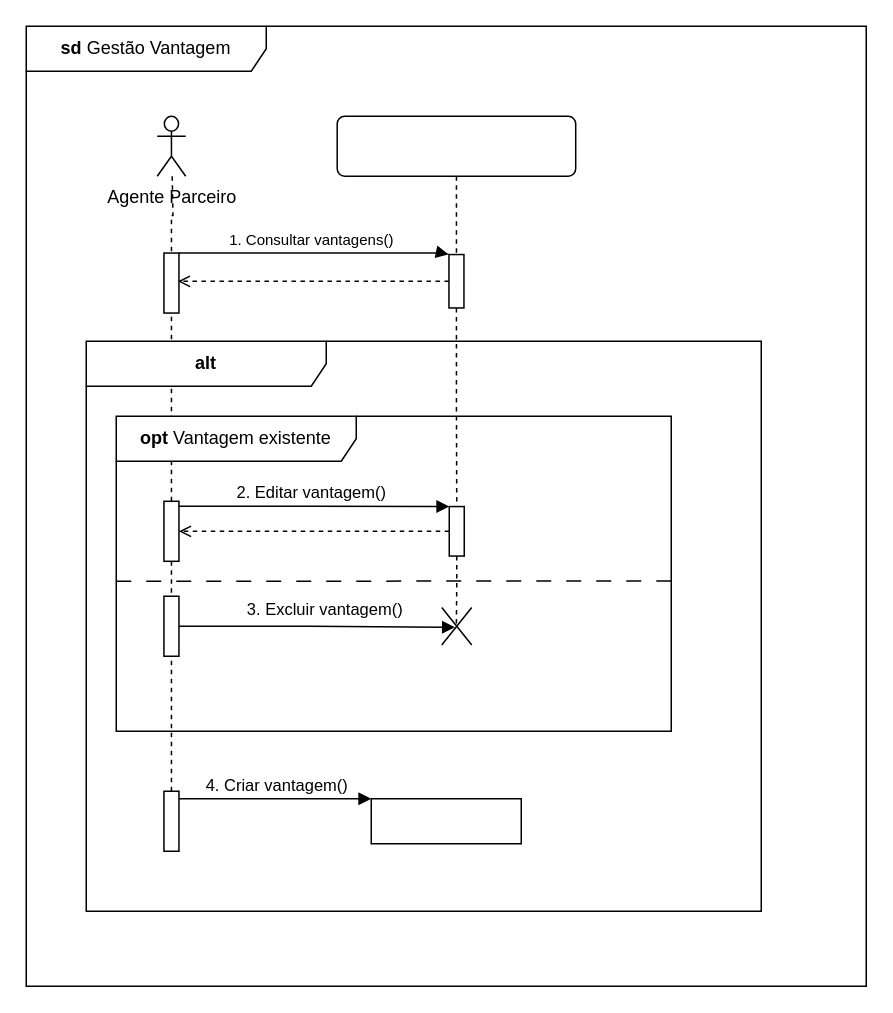
Some shapes in this 893 by 1013 pixel diagram are drawn without their labels. Each missing label, with the centre of its shape:
":Mesa" belongs at [445,820].
"Vantagem" belongs at [456,145].
